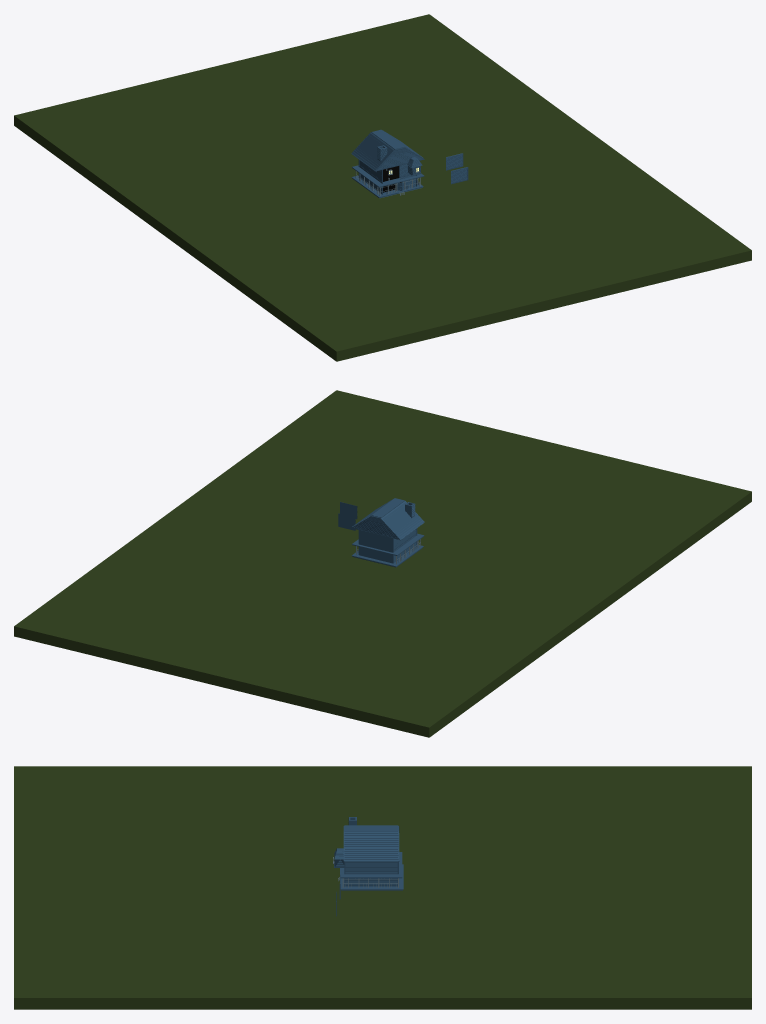
File: uploads_files_2544983_monster+house.glb
3 views of the same model, one above another, from view 1: azimuth 30°, elevation 25°; view 2: azimuth 150°, elevation 25°; view 3: azimuth 270°, elevation 25° (orthographic). The views are drawn at different scales.
Visible parts, largest first — view 1: base, Plane.013; view 2: base, Plane.010, Plane.013; view 3: base, Plane.012, Plane.006, Plane.014, Plane.021, Plane.022.
Part boxes in pixels (x1,y1,x2,y2): base: (14,14,751,361); Plane.013: (352,133,393,170); base: (14,390,751,737); Plane.010: (359,529,393,563); Plane.013: (382,502,423,539); base: (14,766,751,1009); Plane.012: (344,831,398,861); Plane.006: (344,862,398,886); Plane.014: (344,831,397,861); Plane.021: (340,852,402,878); Plane.022: (340,864,403,890).
Size of the model in its own units: 71.03 by 9.6 by 95.56.
